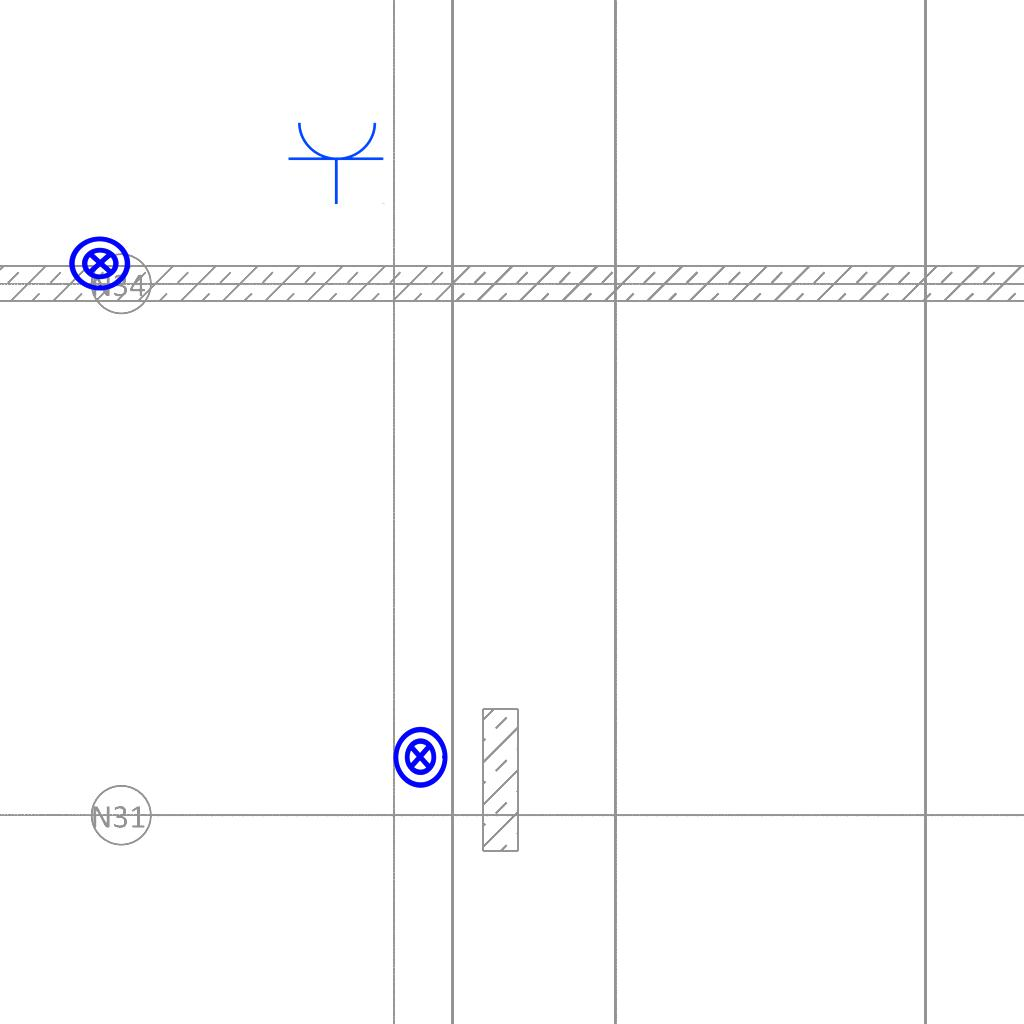Schukosteckdose_einfach: (287, 118, 387, 205)
Taster_beleuchtet: (387, 724, 453, 790), (67, 230, 133, 296)
